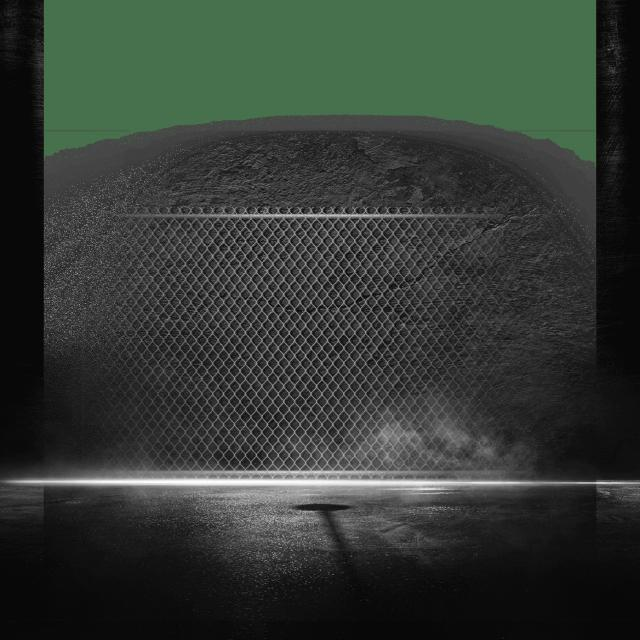Map or Location Image: (42, 113, 600, 480)
